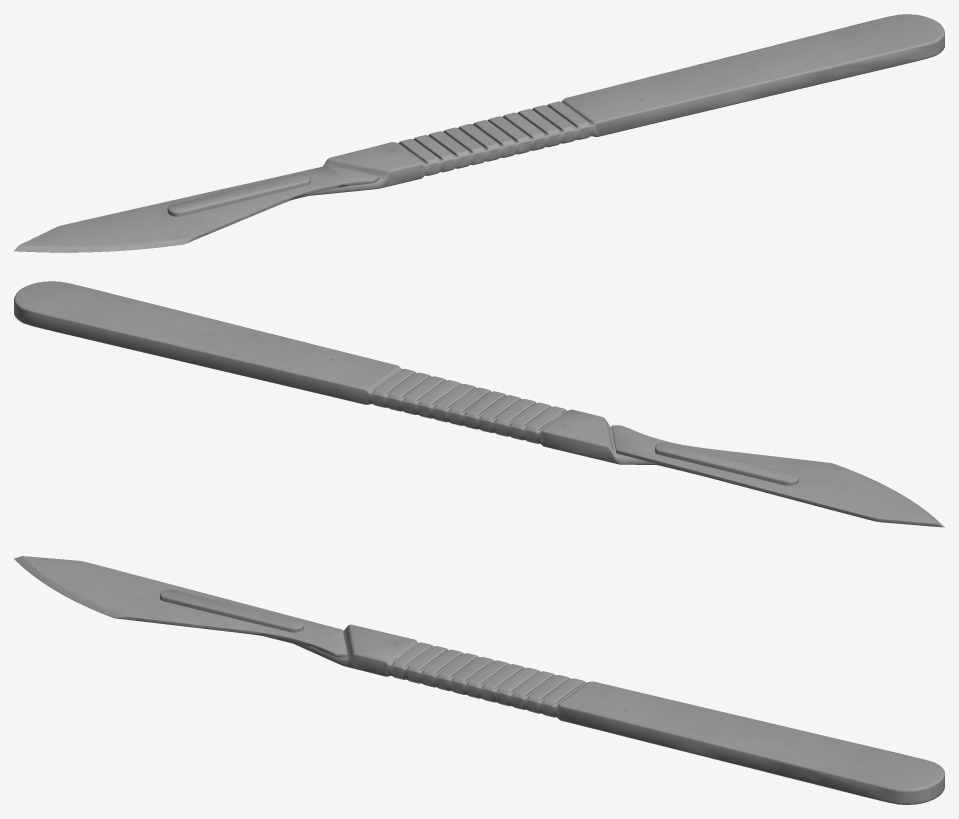
The model's file is instrument_scalpel_handle_a01.glb.
The picture shows the model from 3 angles, top to bottom: view 1: azimuth 30°, elevation 25°; view 2: azimuth 150°, elevation 25°; view 3: azimuth 330°, elevation 25°; orthographic projection.
Parts seen in each view (by area): view 1: handleScalpel_01_mesh_00; view 2: handleScalpel_01_mesh_00; view 3: handleScalpel_01_mesh_00.
Boxes of the visible parts, left/top/right/bottom form: handleScalpel_01_mesh_00: left=14, top=14, right=944, bottom=252; handleScalpel_01_mesh_00: left=14, top=281, right=944, bottom=527; handleScalpel_01_mesh_00: left=14, top=556, right=944, bottom=804.
Size of the model in its own units: 0.1535 by 0.00251 by 0.0144.
Materials: 1 (1 with a texture image).
